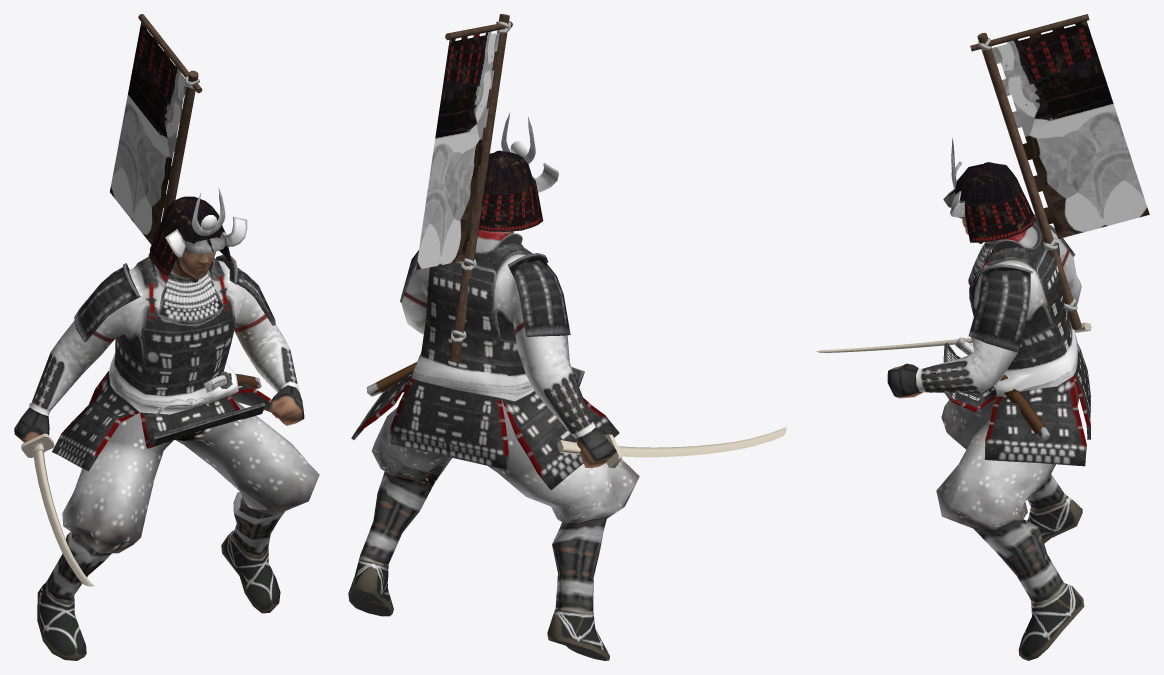
File: rider-base.glb
The picture shows the model from 3 angles, left to right: view 1: azimuth 30°, elevation 25°; view 2: azimuth 150°, elevation 25°; view 3: azimuth 270°, elevation 25°; orthographic projection. The views are drawn at different scales.
Bounding box in the file's own units: 1.4 × 2.61 × 1.32.
4 materials, 3 textured.
